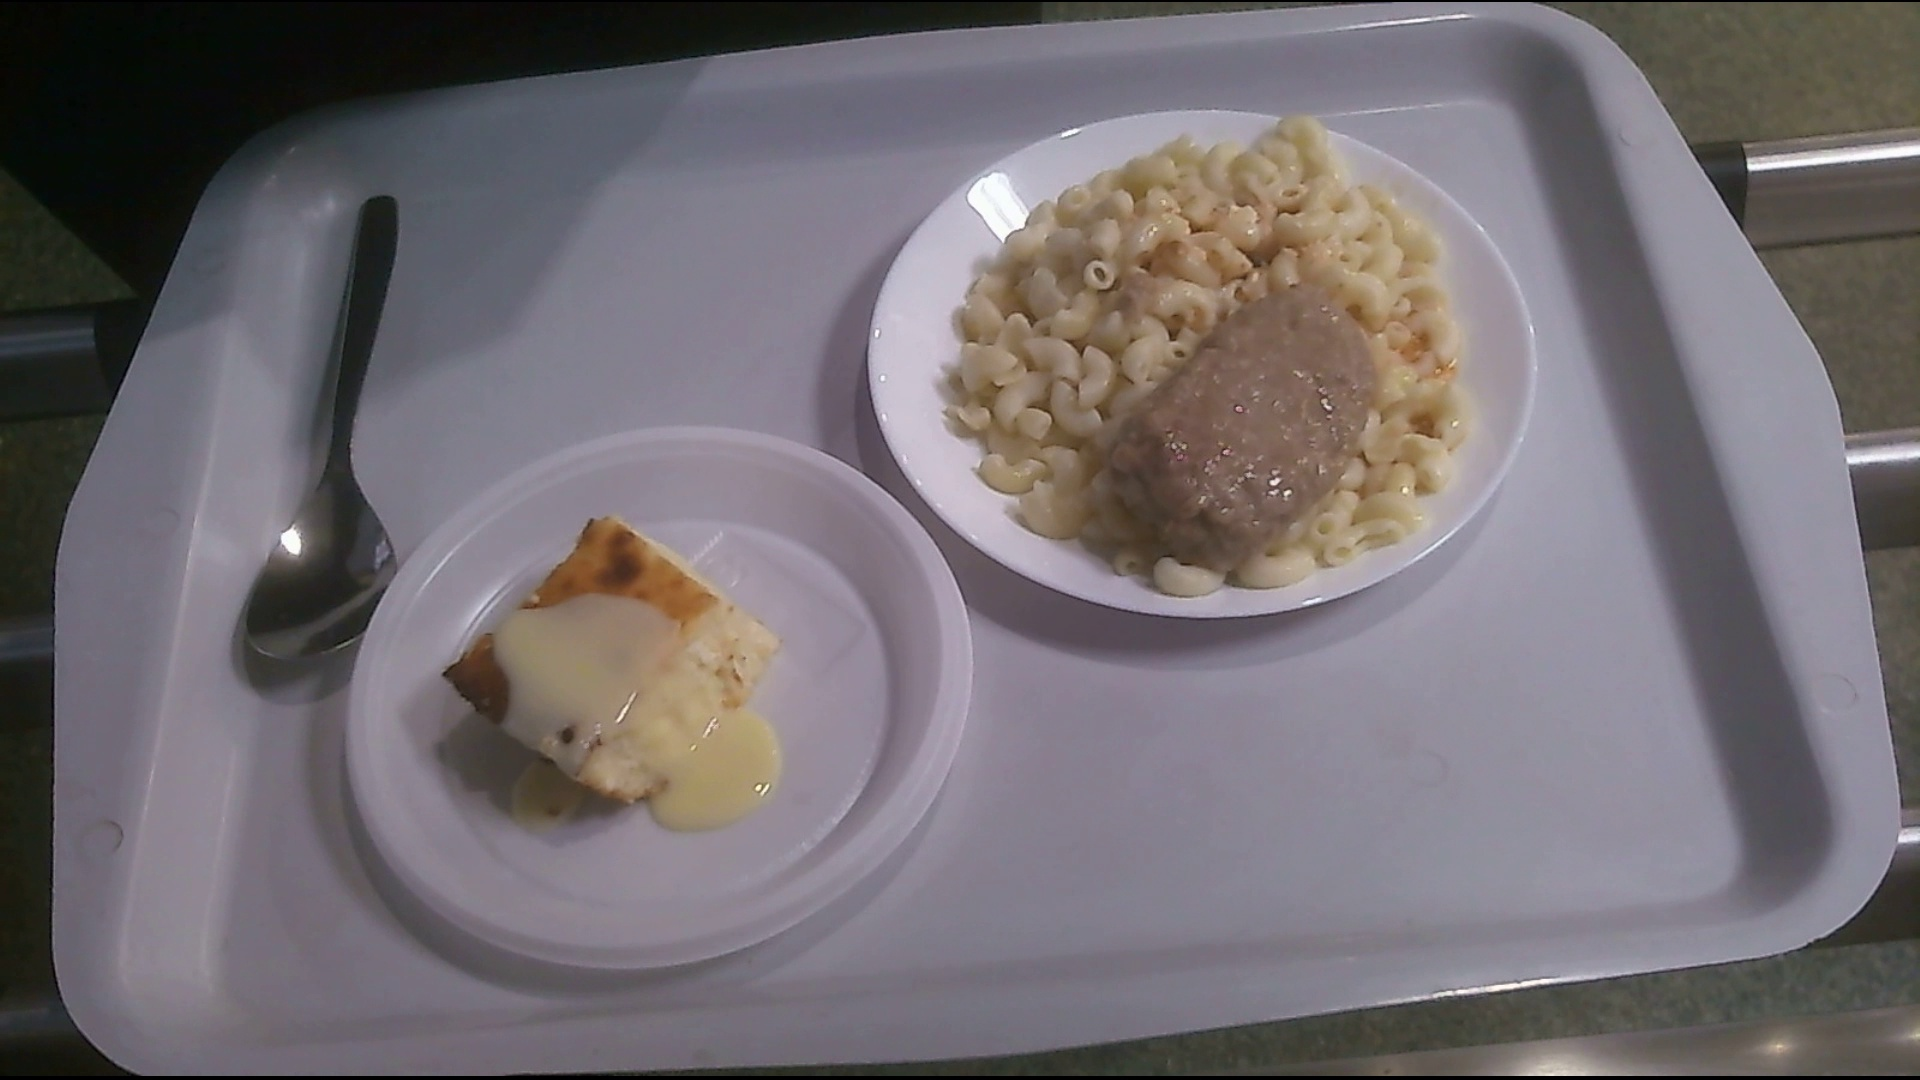cutlery: (249, 194, 407, 691)
plate: (852, 105, 1545, 624), (345, 427, 975, 975)
